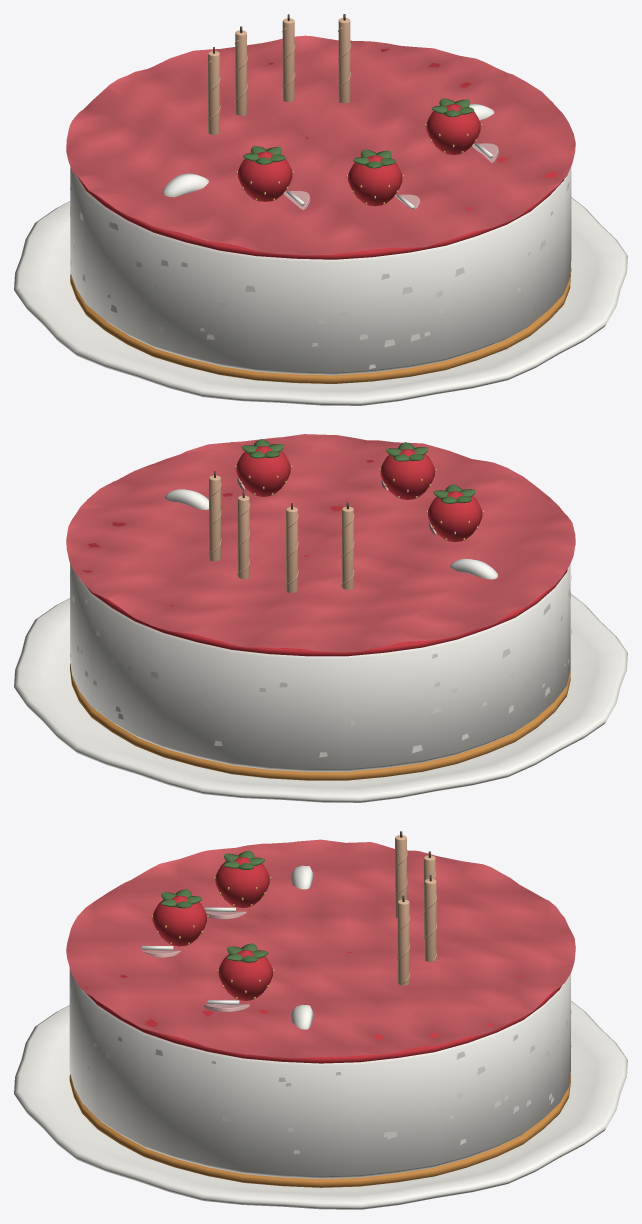
The model's file is cake-04.0d492db822eb.glb.
3 renders of one model, top to bottom at view 1: azimuth 30°, elevation 25°; view 2: azimuth 150°, elevation 25°; view 3: azimuth 270°, elevation 25°, orthographic.
Parts seen in each view (by area): view 1: Irregular_hand_spread_food_surface, PART_FOOD_ROOT_MAT_cream, Clean_porcelain_plate, PART_FOOD_ROOT_MAT_strawberry, Exposed_thin_sponge_base, PART_FOOD_ROOT_MAT_apricot_wax, PART_FOOD_ROOT_MAT_leaf, PART_FOOD_ROOT_MAT_pink; view 2: Irregular_hand_spread_food_surface, PART_FOOD_ROOT_MAT_cream, Clean_porcelain_plate, PART_FOOD_ROOT_MAT_strawberry, Exposed_thin_sponge_base, PART_FOOD_ROOT_MAT_apricot_wax, PART_FOOD_ROOT_MAT_leaf; view 3: Irregular_hand_spread_food_surface, PART_FOOD_ROOT_MAT_cream, Clean_porcelain_plate, PART_FOOD_ROOT_MAT_strawberry, Exposed_thin_sponge_base, PART_FOOD_ROOT_MAT_apricot_wax, PART_FOOD_ROOT_MAT_leaf, PART_FOOD_ROOT_MAT_pink.
Part boxes in pixels (left/top/right/bottom): Irregular_hand_spread_food_surface: left=66, top=35, right=575, bottom=255; PART_FOOD_ROOT_MAT_cream: left=70, top=103, right=571, bottom=375; Clean_porcelain_plate: left=14, top=197, right=627, bottom=405; PART_FOOD_ROOT_MAT_strawberry: left=77, top=48, right=564, bottom=259; Exposed_thin_sponge_base: left=70, top=266, right=571, bottom=383; PART_FOOD_ROOT_MAT_apricot_wax: left=208, top=18, right=350, bottom=134; PART_FOOD_ROOT_MAT_leaf: left=243, top=98, right=474, bottom=168; PART_FOOD_ROOT_MAT_pink: left=283, top=143, right=498, bottom=209; Irregular_hand_spread_food_surface: left=66, top=434, right=575, bottom=652; PART_FOOD_ROOT_MAT_cream: left=70, top=489, right=571, bottom=771; Clean_porcelain_plate: left=14, top=594, right=627, bottom=802; PART_FOOD_ROOT_MAT_strawberry: left=82, top=441, right=567, bottom=656; Exposed_thin_sponge_base: left=70, top=663, right=570, bottom=780; PART_FOOD_ROOT_MAT_apricot_wax: left=209, top=475, right=353, bottom=592; PART_FOOD_ROOT_MAT_leaf: left=241, top=439, right=475, bottom=503; Irregular_hand_spread_food_surface: left=66, top=839, right=575, bottom=1058; PART_FOOD_ROOT_MAT_cream: left=69, top=865, right=571, bottom=1178; Clean_porcelain_plate: left=14, top=1001, right=627, bottom=1209; PART_FOOD_ROOT_MAT_strawberry: left=85, top=857, right=561, bottom=1063; Exposed_thin_sponge_base: left=69, top=1074, right=570, bottom=1187; PART_FOOD_ROOT_MAT_apricot_wax: left=395, top=835, right=436, bottom=985; PART_FOOD_ROOT_MAT_leaf: left=161, top=850, right=268, bottom=962; PART_FOOD_ROOT_MAT_pink: left=142, top=911, right=249, bottom=1011.
Size of the model in its own units: 0.1959 by 0.0798 by 0.1959.
